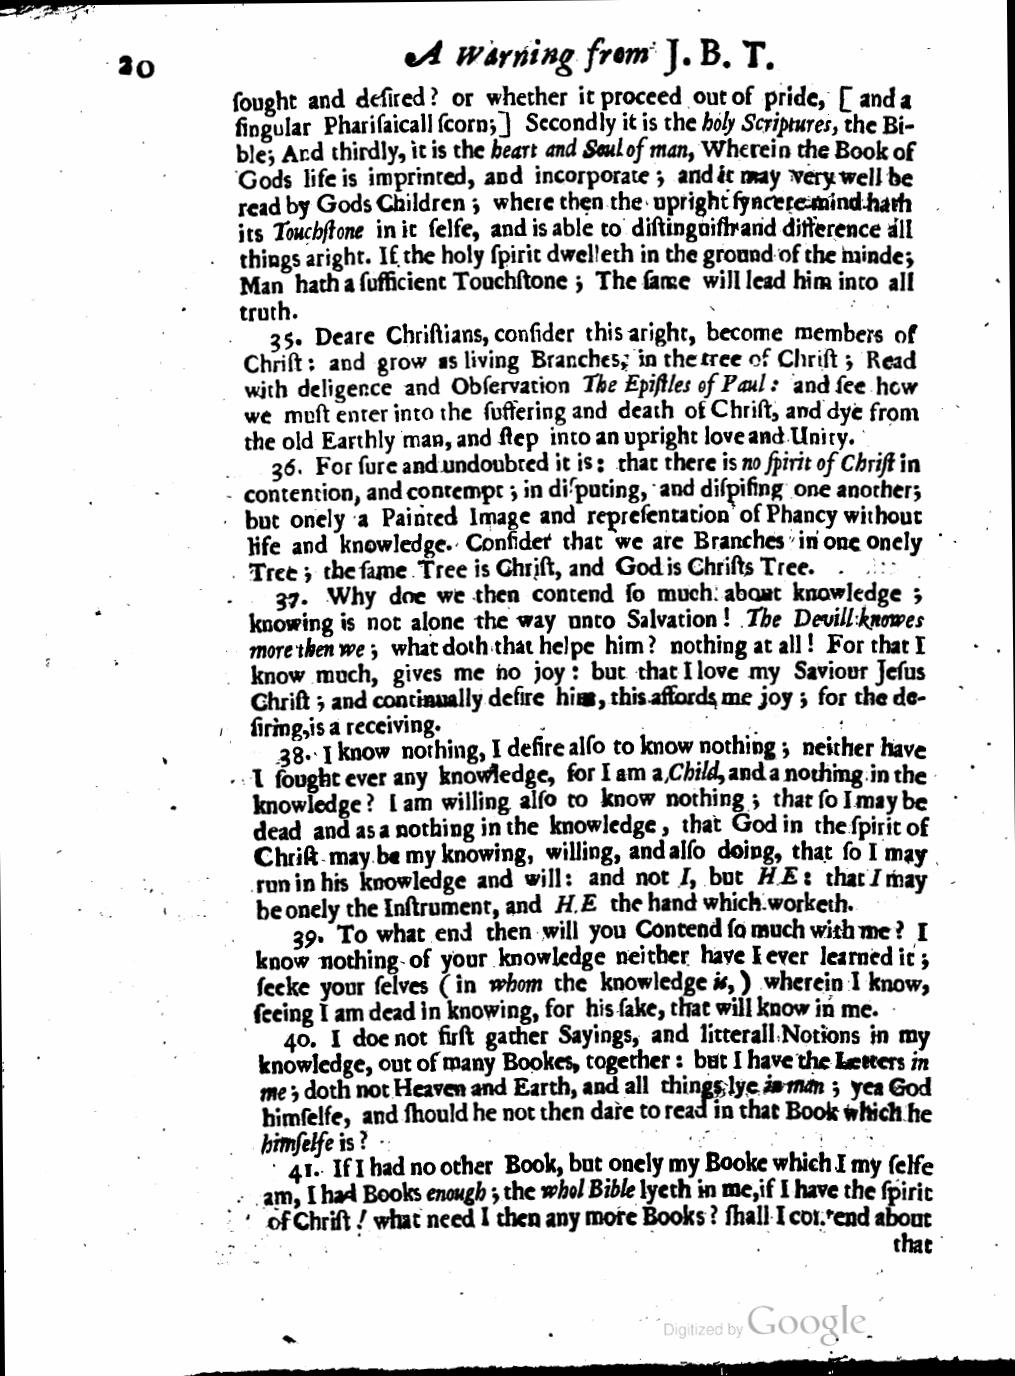bottom_p: (229, 82, 916, 322)
catchword: (892, 1231, 935, 1257)
full_p: (248, 736, 931, 922), (247, 582, 927, 741), (257, 1022, 935, 1157), (241, 452, 924, 583), (237, 322, 921, 452), (252, 919, 936, 1027)
header: (402, 35, 776, 77)
page_num: (115, 50, 158, 84)
top_p: (260, 1153, 936, 1232)
